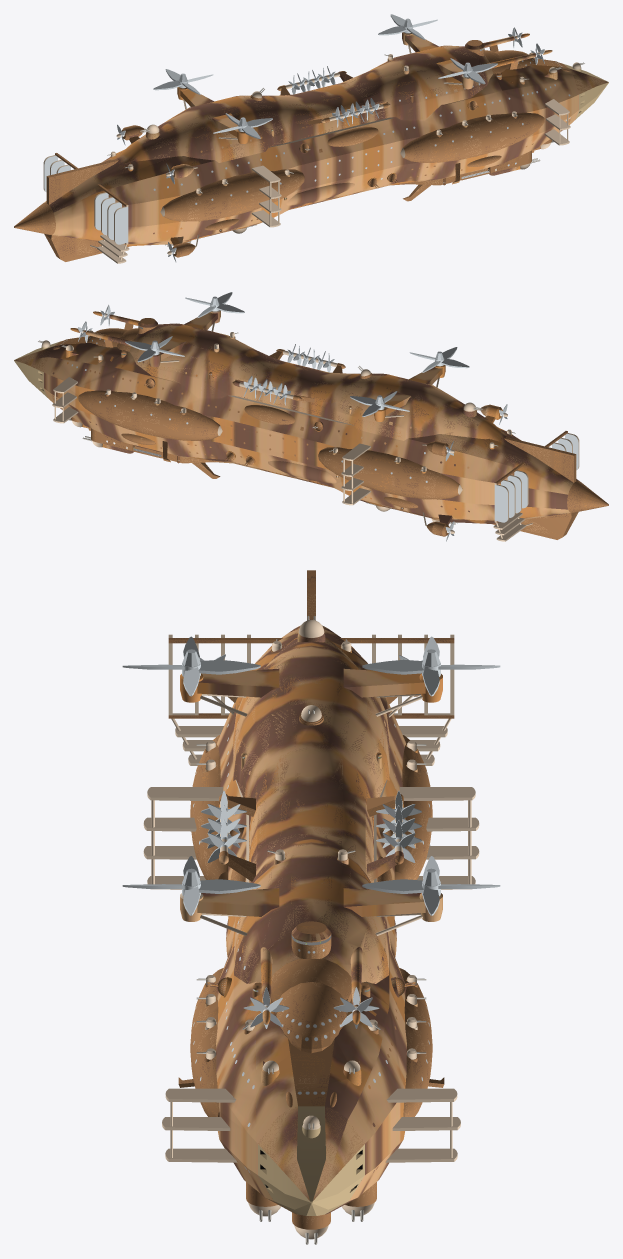
Rendered from boss_air-destroyer.glb.
The picture shows the model from 3 angles, top to bottom: view 1: azimuth 30°, elevation 25°; view 2: azimuth 150°, elevation 25°; view 3: azimuth 270°, elevation 25°; orthographic projection. The views are drawn at different scales.
Parts seen in each view (by area): view 1: SketchUp; view 2: SketchUp; view 3: SketchUp.
Part boxes in pixels (x1,y1,x2,y2): SketchUp: (14, 14, 608, 263); SketchUp: (14, 292, 608, 541); SketchUp: (122, 570, 500, 1229).
Size of the model in its own units: 25308 by 6199 by 6969.
Materials: 18 (2 with a texture image).
